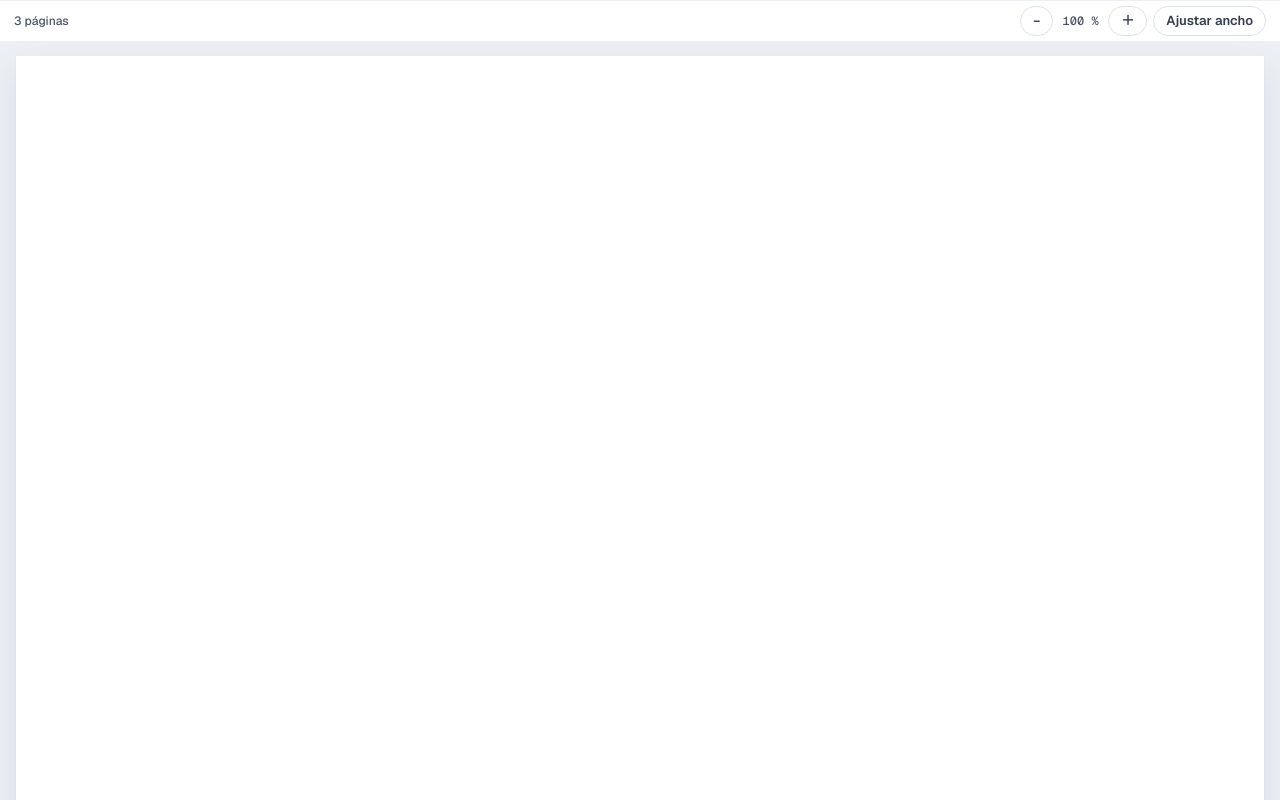
visor de PDF del archivo original › muestra las páginas dentro del panel y permite ampliar el documento
expect the text "3 páginas" is shown: met, box [14,12,69,30]
Click the button named "Ampliar PDF". click: (1128, 21)
box: [1108,6,1147,36]
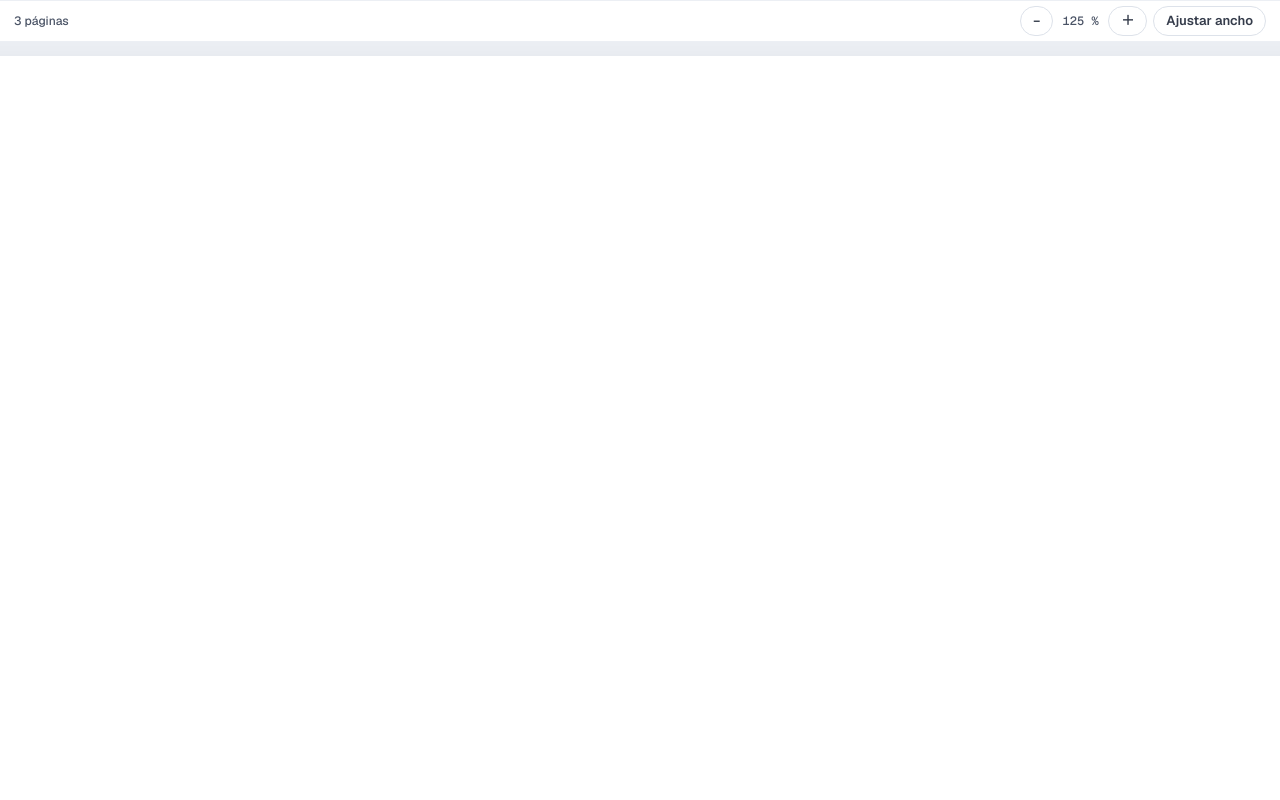
expect the text "125 %" is shown: met, box [1063,13,1099,29]
